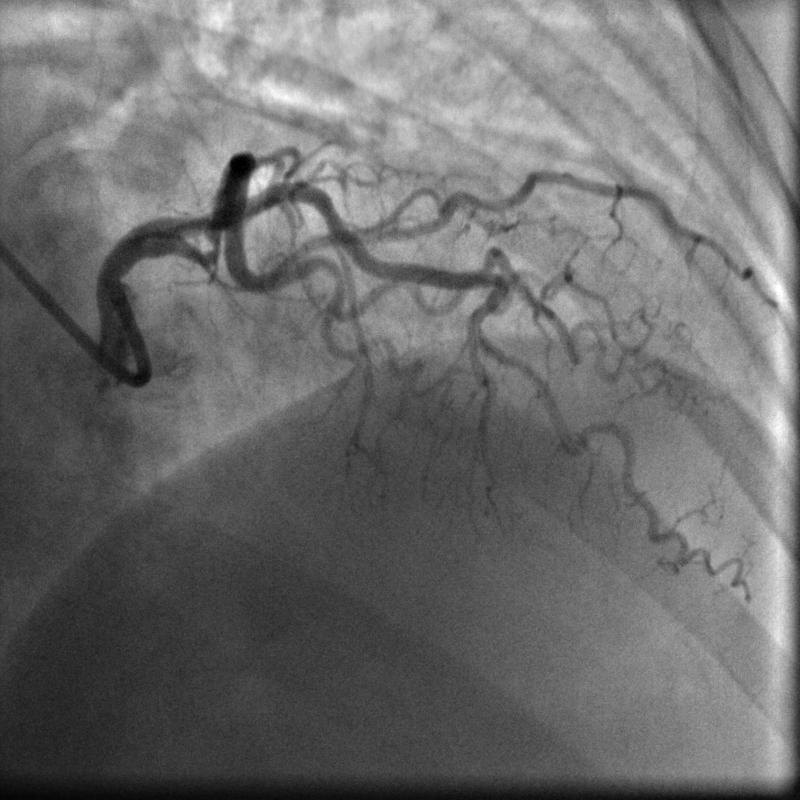Stenosis: (199, 228, 230, 267)
